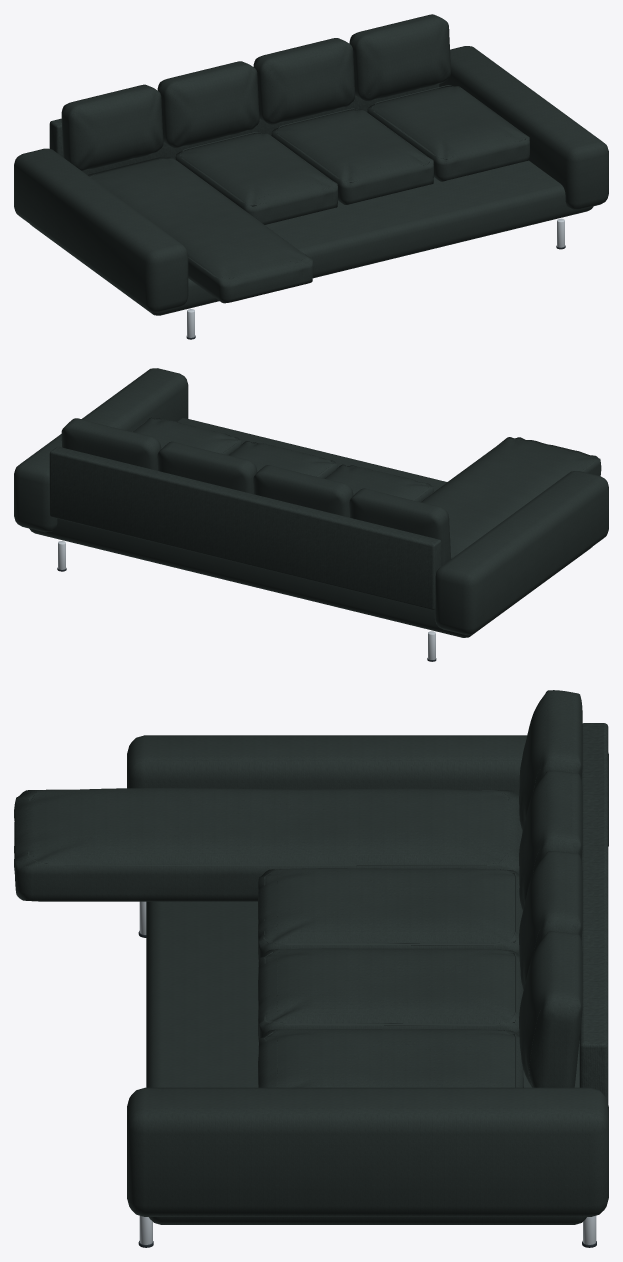
File: left-chaise-sectional.glb
3 renders of one model, top to bottom at view 1: azimuth 30°, elevation 25°; view 2: azimuth 150°, elevation 25°; view 3: azimuth 270°, elevation 25°, orthographic. The views are drawn at different scales.
Parts seen in each view (by area): view 1: catalog_surface_UVMap, catalog_surface_RealismUV; view 2: catalog_surface_UVMap, catalog_surface_RealismUV; view 3: catalog_surface_UVMap, catalog_surface_RealismUV.
Boxes of the visible parts, left/top/right/bottom form: catalog_surface_UVMap: left=14, top=14, right=608, bottom=339; catalog_surface_RealismUV: left=80, top=34, right=564, bottom=337; catalog_surface_UVMap: left=14, top=368, right=608, bottom=661; catalog_surface_RealismUV: left=58, top=418, right=594, bottom=659; catalog_surface_UVMap: left=14, top=690, right=608, bottom=1247; catalog_surface_RealismUV: left=27, top=769, right=596, bottom=1244.
Size of the model in its own units: 2.85 by 0.85 by 1.85.
4 materials, 1 textured.
